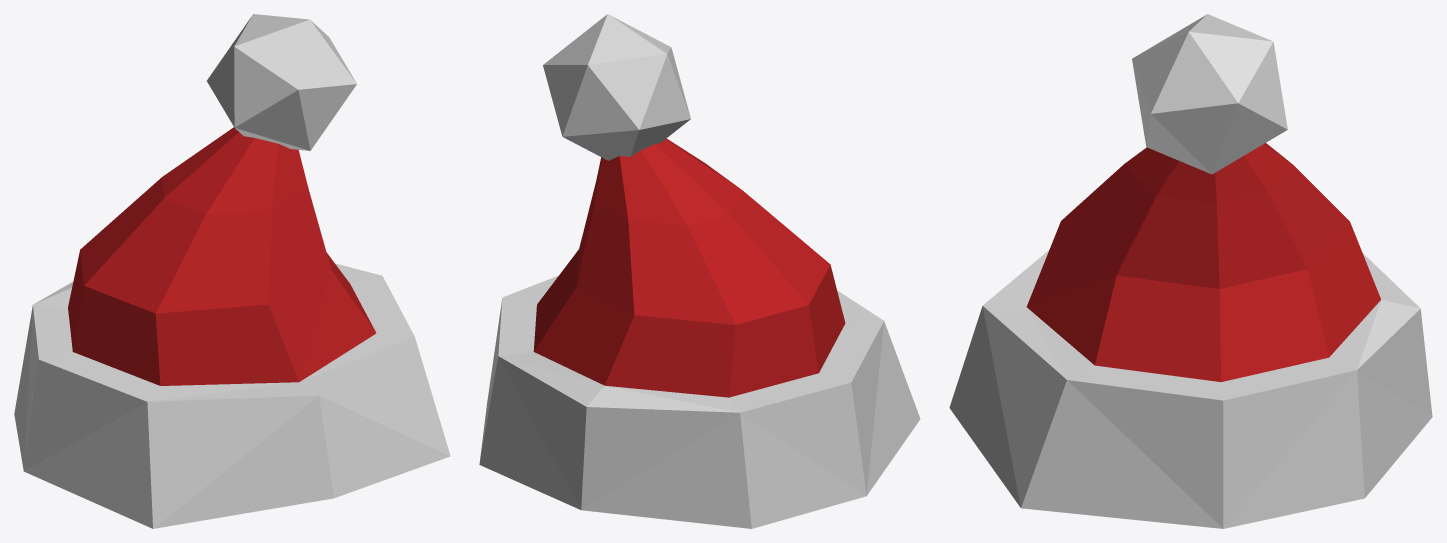
The model's file is ChristmasHat.dae.
3 views of the same model, side by side, from view 1: azimuth 30°, elevation 25°; view 2: azimuth 150°, elevation 25°; view 3: azimuth 270°, elevation 25° (orthographic). The views are drawn at different scales.
Parts seen in each view (by area): view 1: Cube_011; view 2: Cube_011; view 3: Cube_011.
Part boxes in pixels (left/top/right/bottom): Cube_011: left=14, top=14, right=450, bottom=528; Cube_011: left=479, top=14, right=920, bottom=528; Cube_011: left=949, top=14, right=1432, bottom=528.
Bounding box in the file's own units: 2.25 × 2.27 × 2.29.
